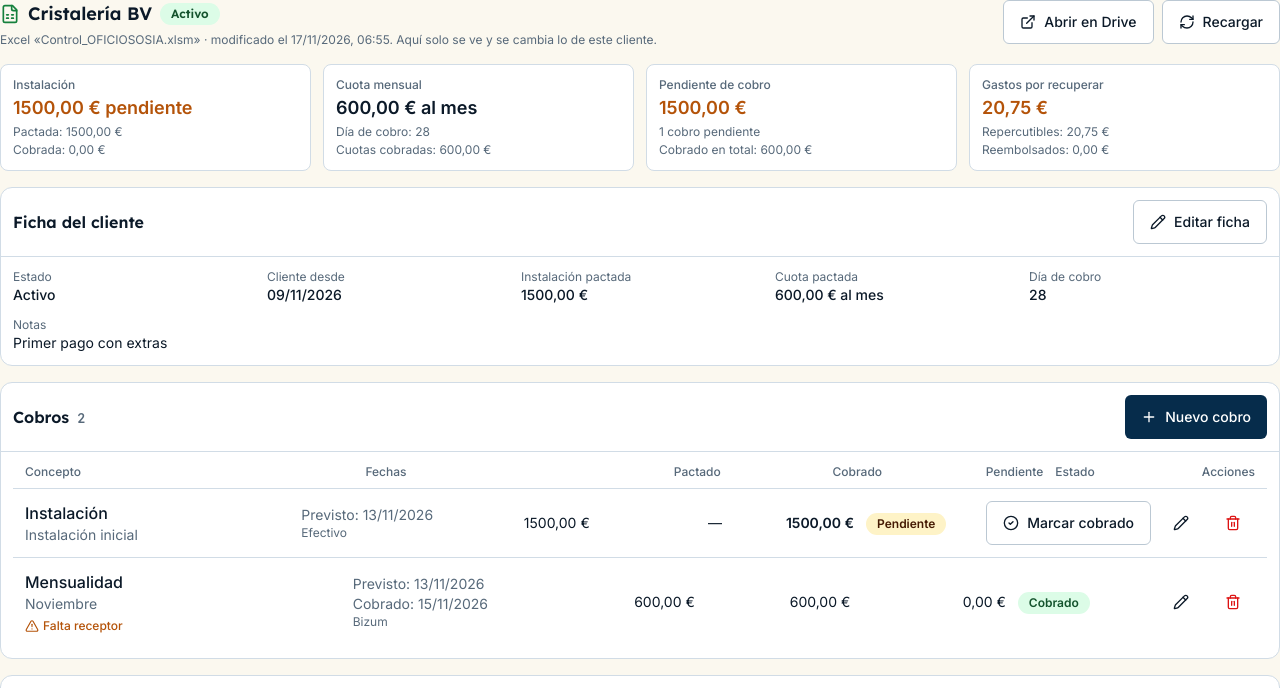
ControlExcel › «Marcar cobrado» pide quién lo recibe y apunta el cobro entero con fecha de hoy
Click the button "Marcar cobrado": (1069, 522) [986,500,1151,544]
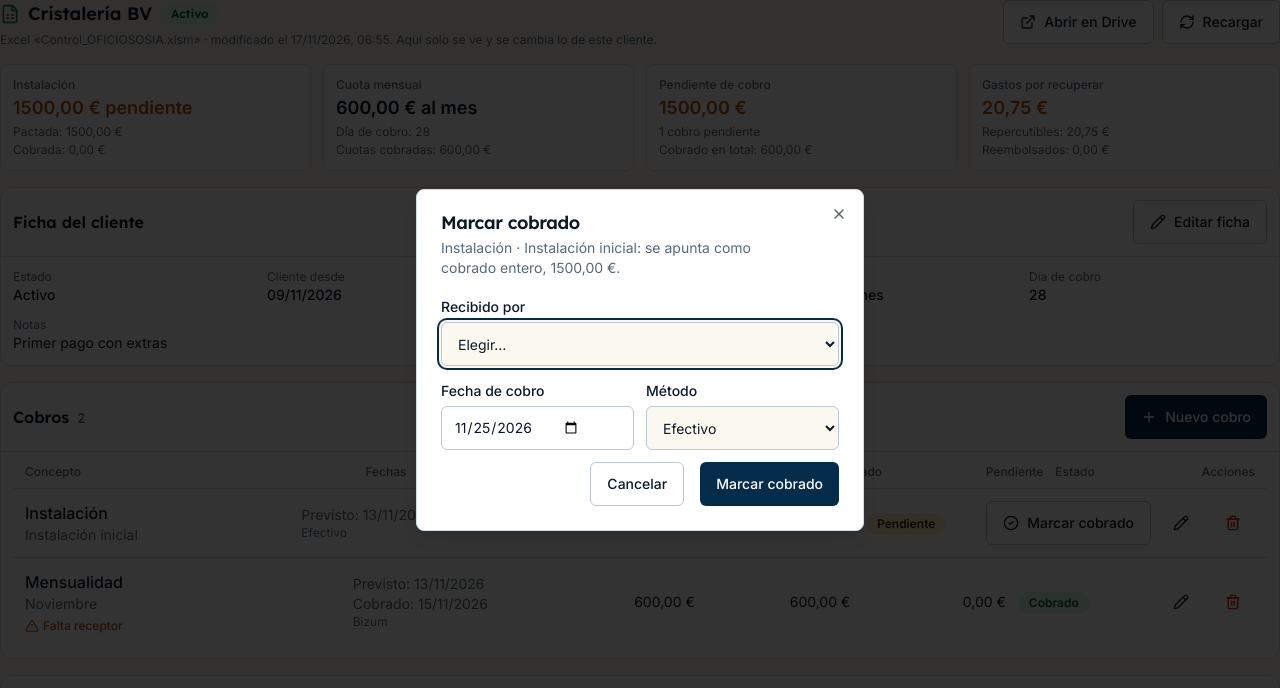
Click the button "Marcar cobrado": (770, 484) [700,462,839,506]
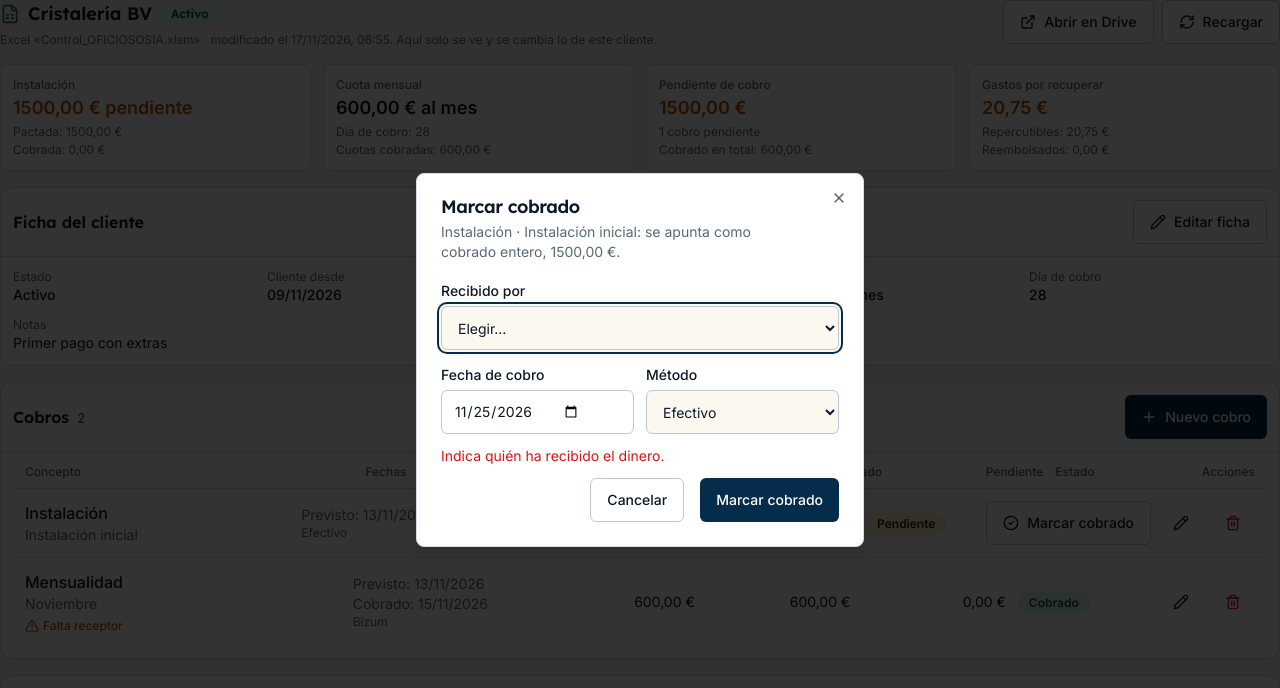
Check: the message reads "Indica quién ha recibido el dinero.", box [441,447,664,464]
Select "Pablo" in the dropdown labelled "Recibido por": (640, 328) [441,306,839,350]
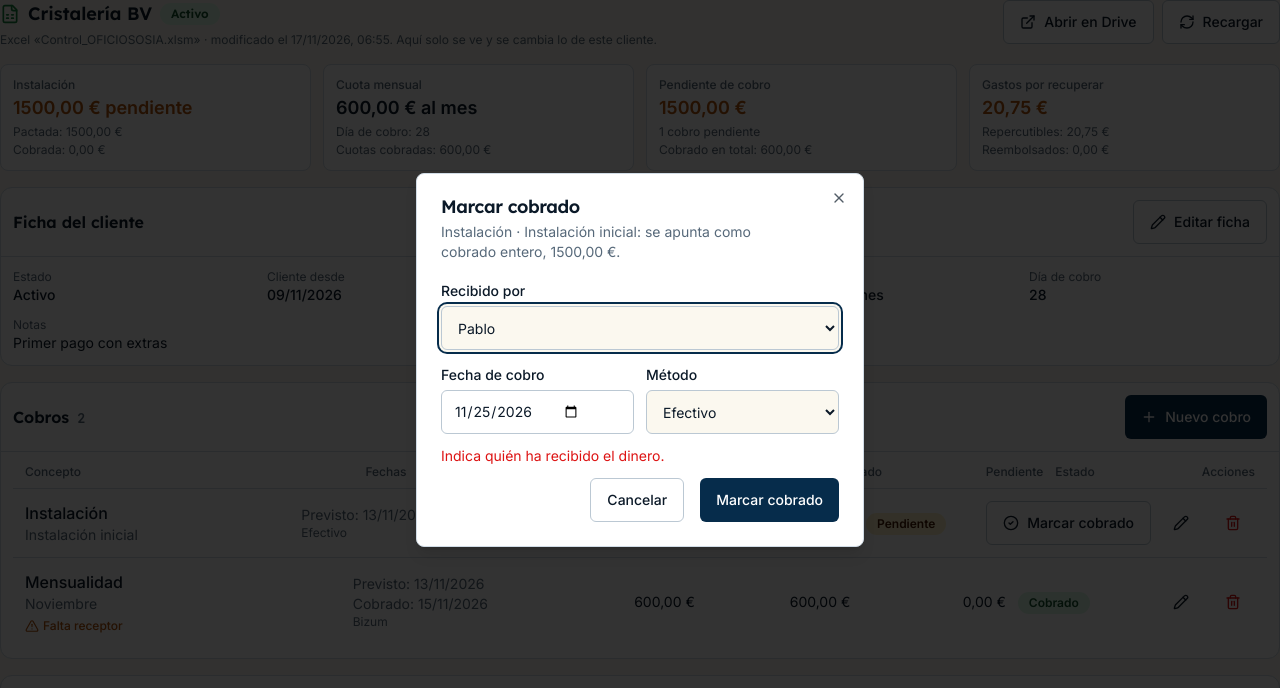
Click the button "Marcar cobrado": (770, 500) [700,478,839,522]
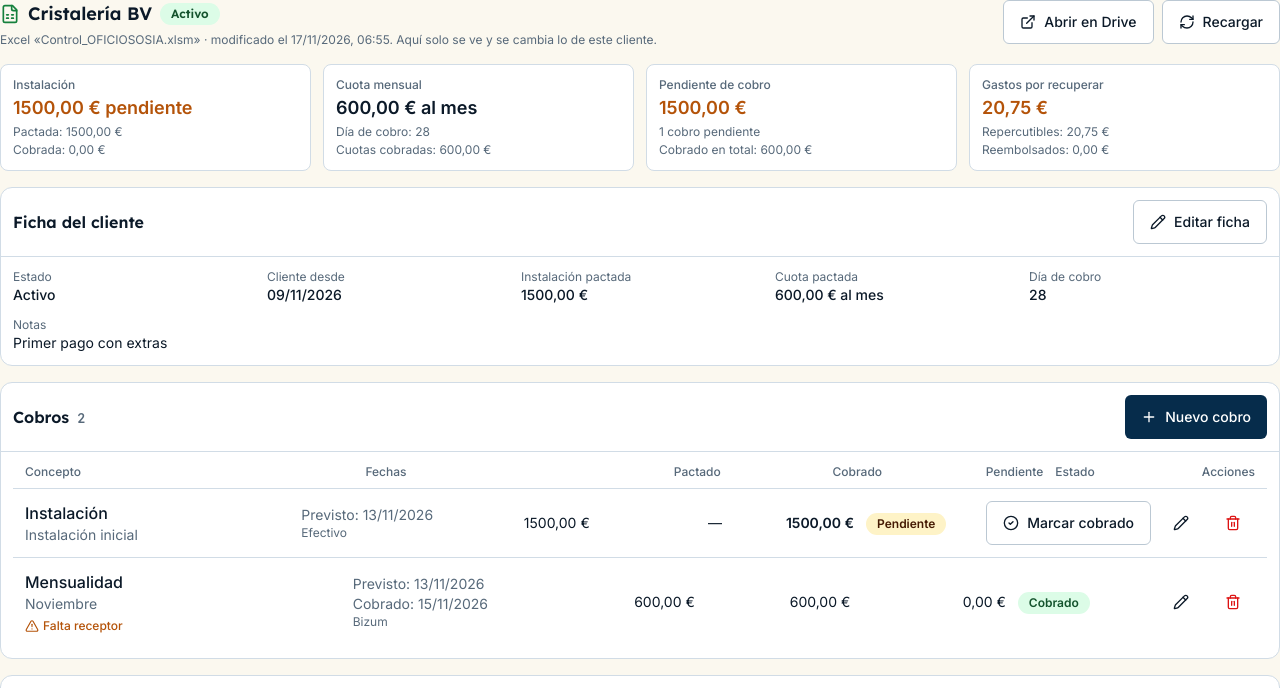
Check: the dialog is gone
